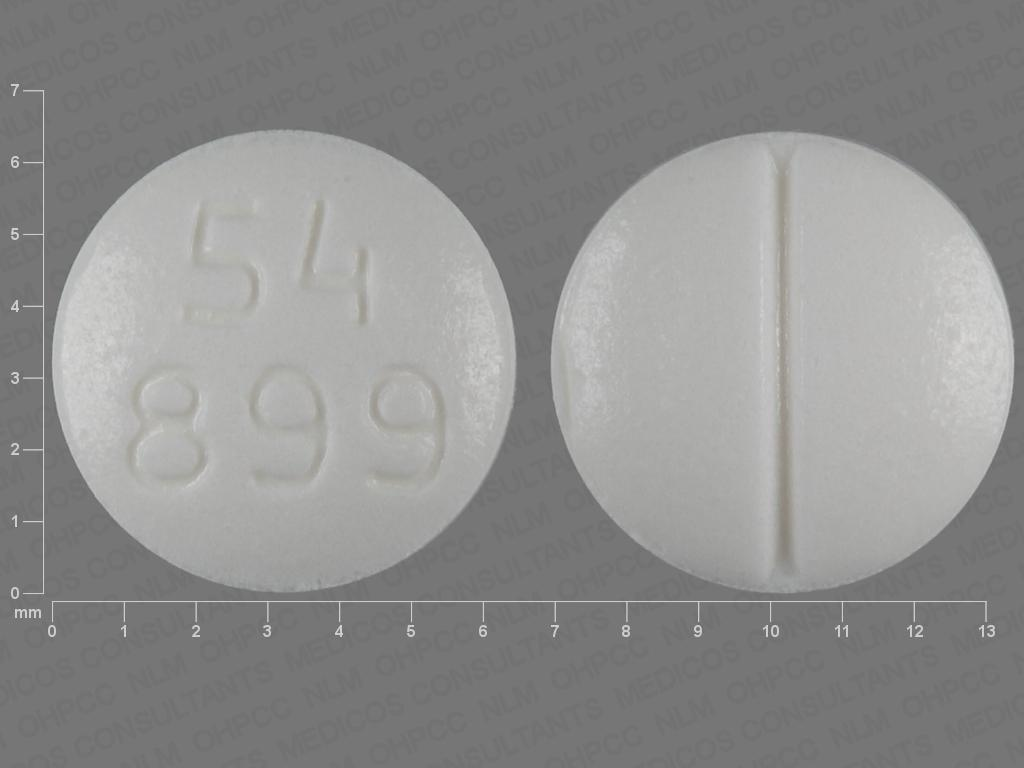Pill: (541, 119, 1024, 599), (46, 121, 525, 599)
